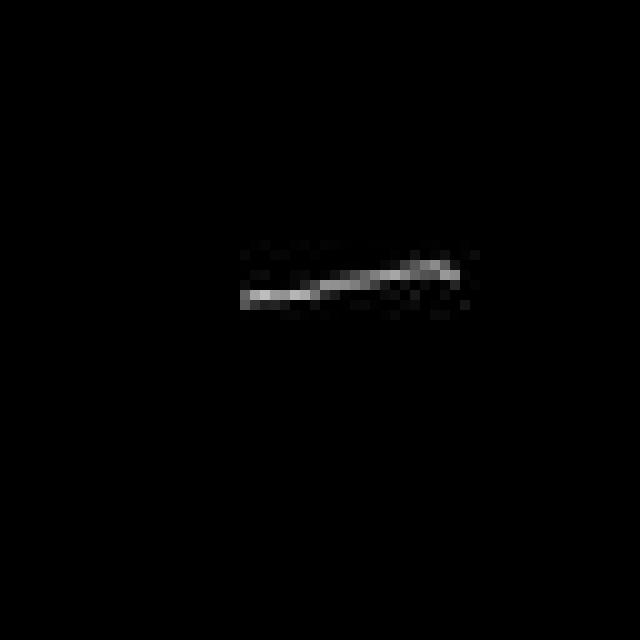1 -one-: (234, 249, 461, 330)
